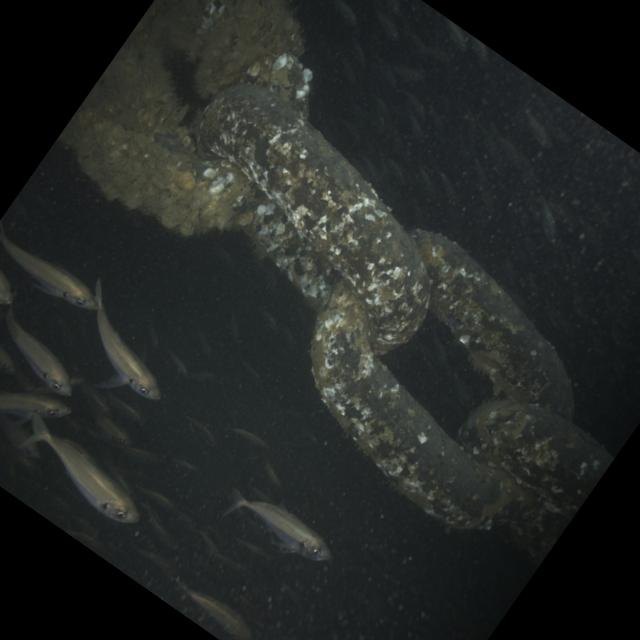ChainLink: (199, 84, 429, 352), (310, 282, 507, 529), (57, 45, 252, 236), (409, 229, 572, 419), (139, 0, 310, 115), (458, 400, 613, 518), (239, 191, 340, 307), (507, 485, 570, 567)
